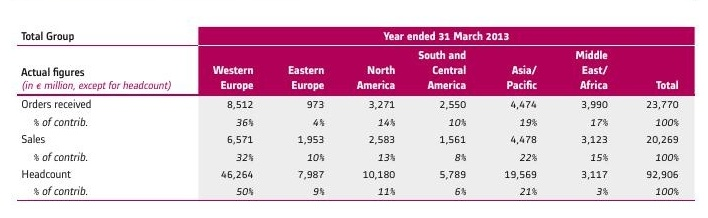table: (0, 0, 708, 218)
